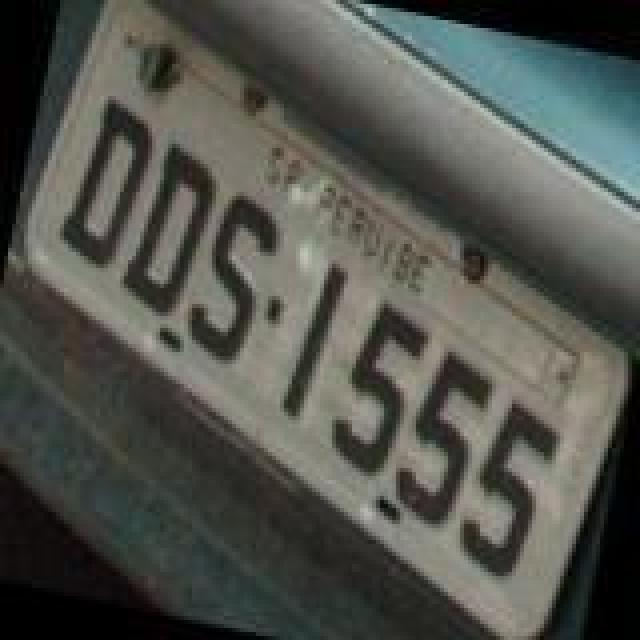1: (276, 258, 348, 422)
5: (386, 344, 502, 536), (450, 396, 566, 588), (320, 296, 432, 488)
D: (52, 90, 164, 278), (114, 138, 222, 326)
S: (176, 188, 288, 372)
